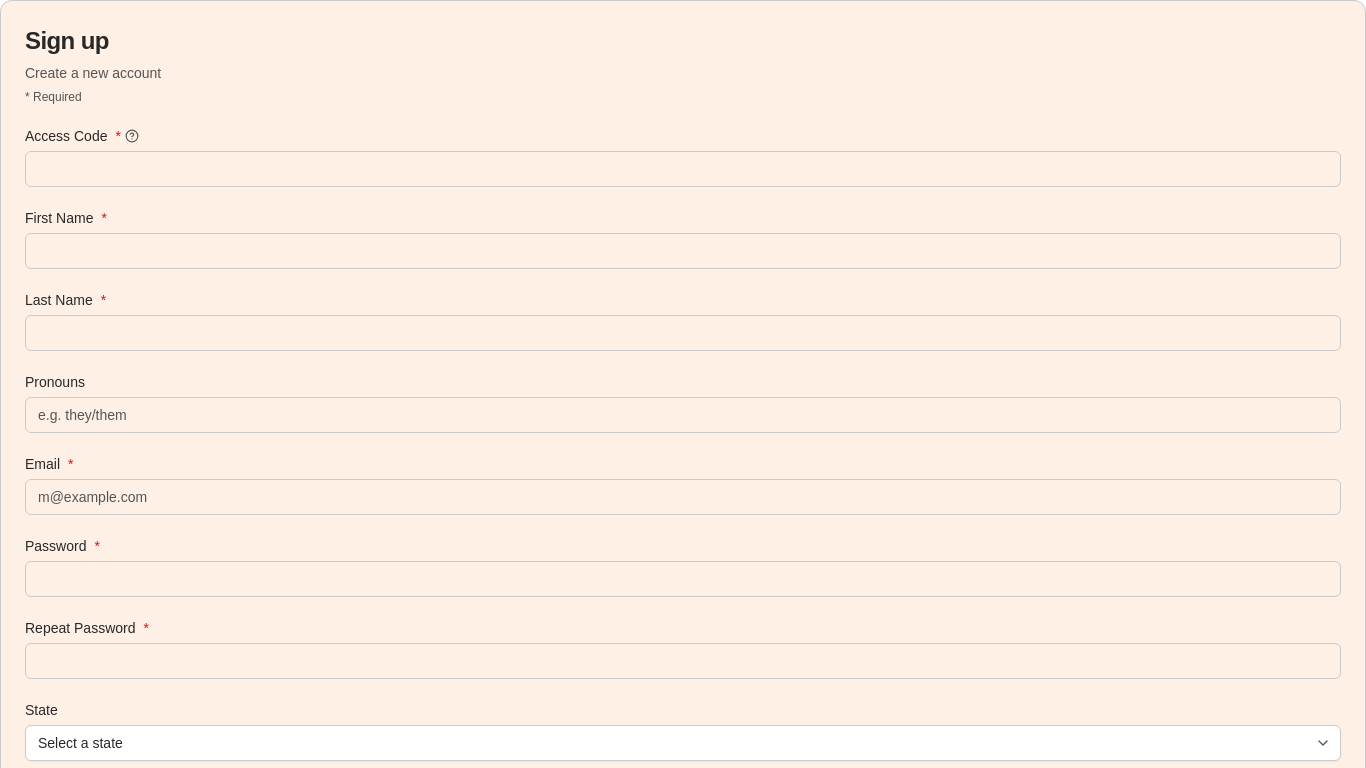
Test: SignUpForm › rejects a password that doesn't meet the policy before submitting
This screenshot has width=1366, height=768.
Type "test-code" into the field labelled "Access Code *". click: (683, 169)
box: x1=25 y1=151 x2=1341 y2=187
Type "Alice" into the field labelled "First Name *". click: (683, 251)
box: x1=25 y1=233 x2=1341 y2=269
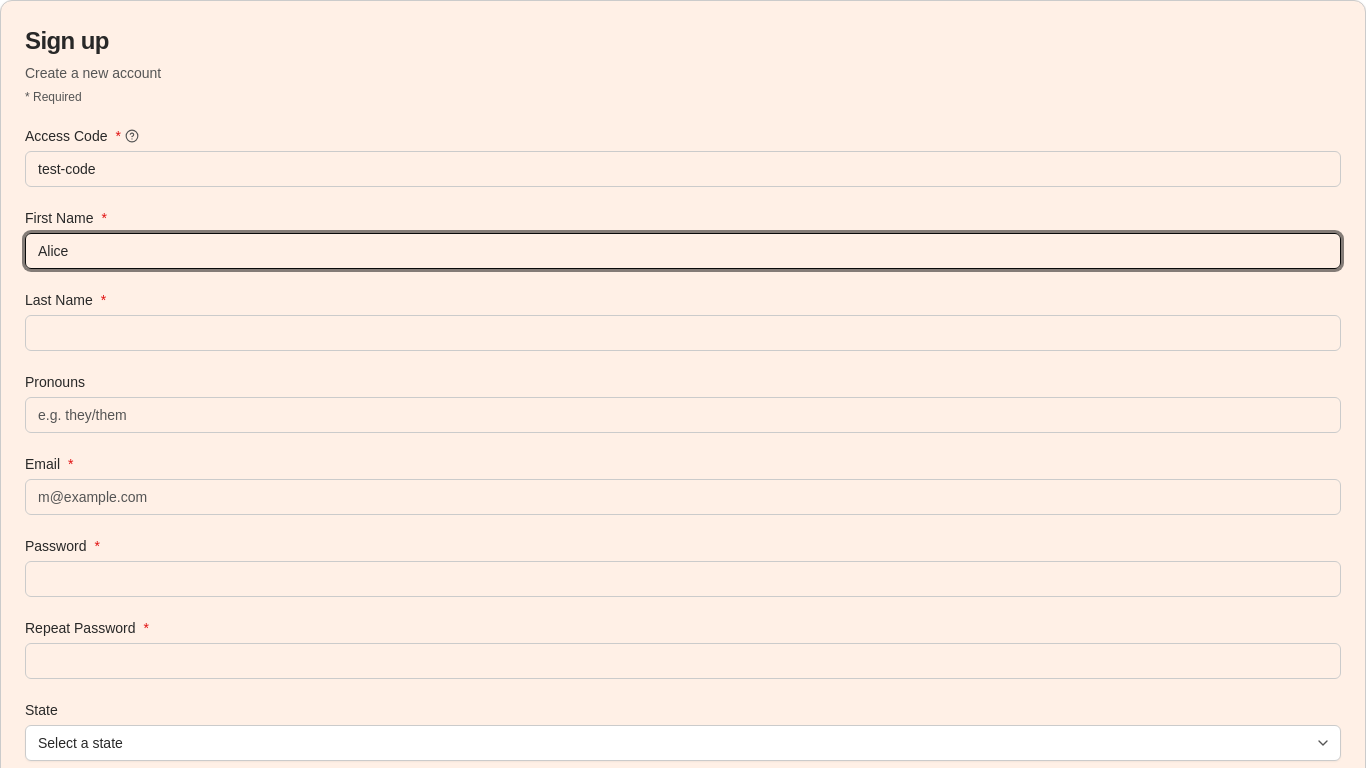
Type "Smith" into the field labelled "Last Name *". click: (683, 333)
box: x1=25 y1=315 x2=1341 y2=351
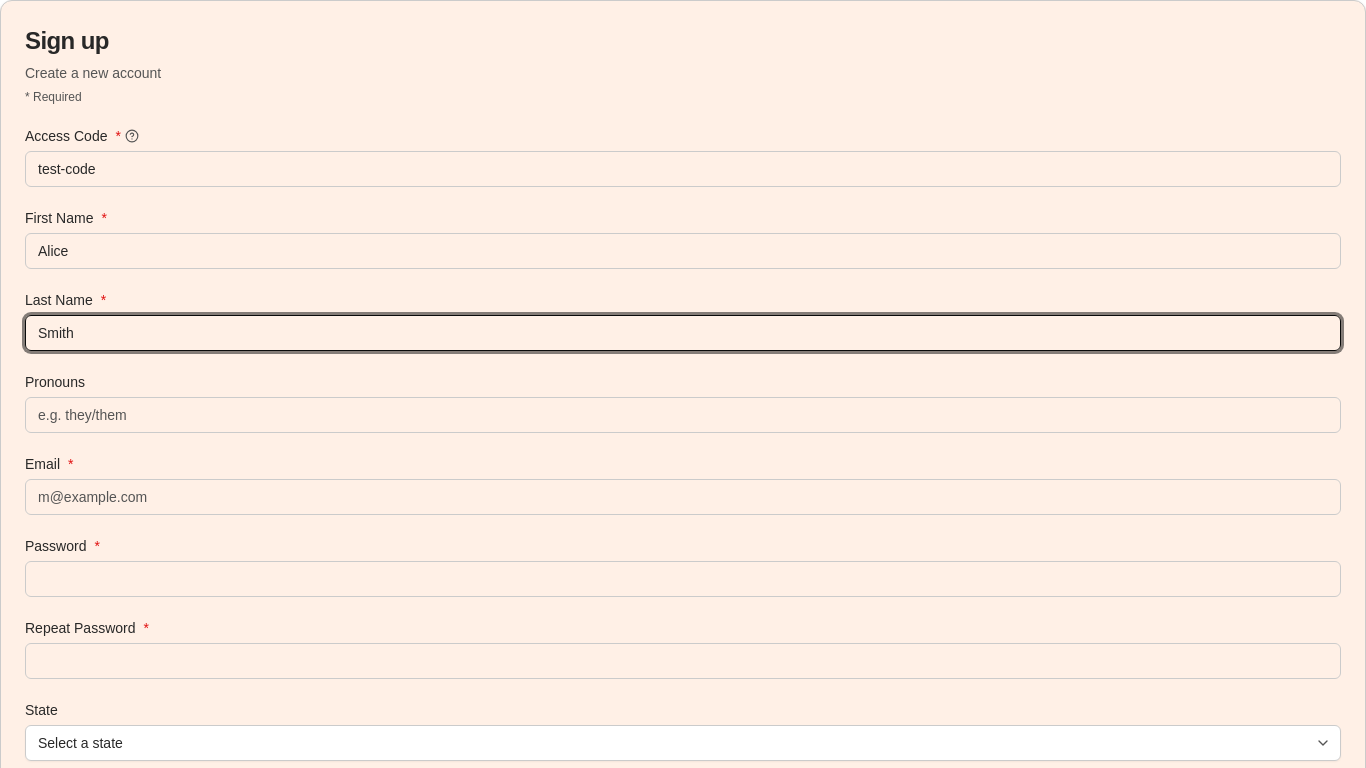
Type "alice@example.com" into the field labelled "Email *". click: (683, 497)
box: x1=25 y1=479 x2=1341 y2=515
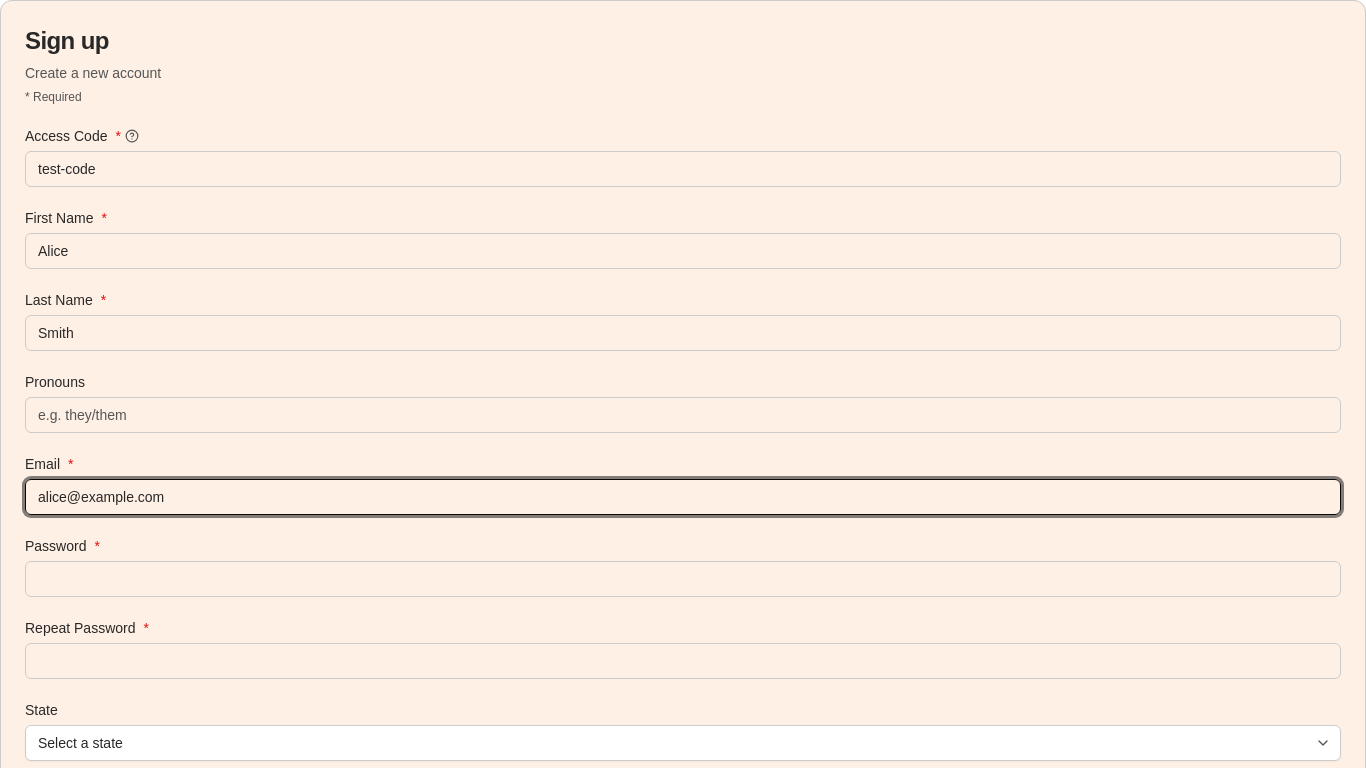
All lowercase + digits: fails the uppercase requirement.
Type "password123" into the password field labelled "Password *". click: (683, 579)
box: x1=25 y1=561 x2=1341 y2=597
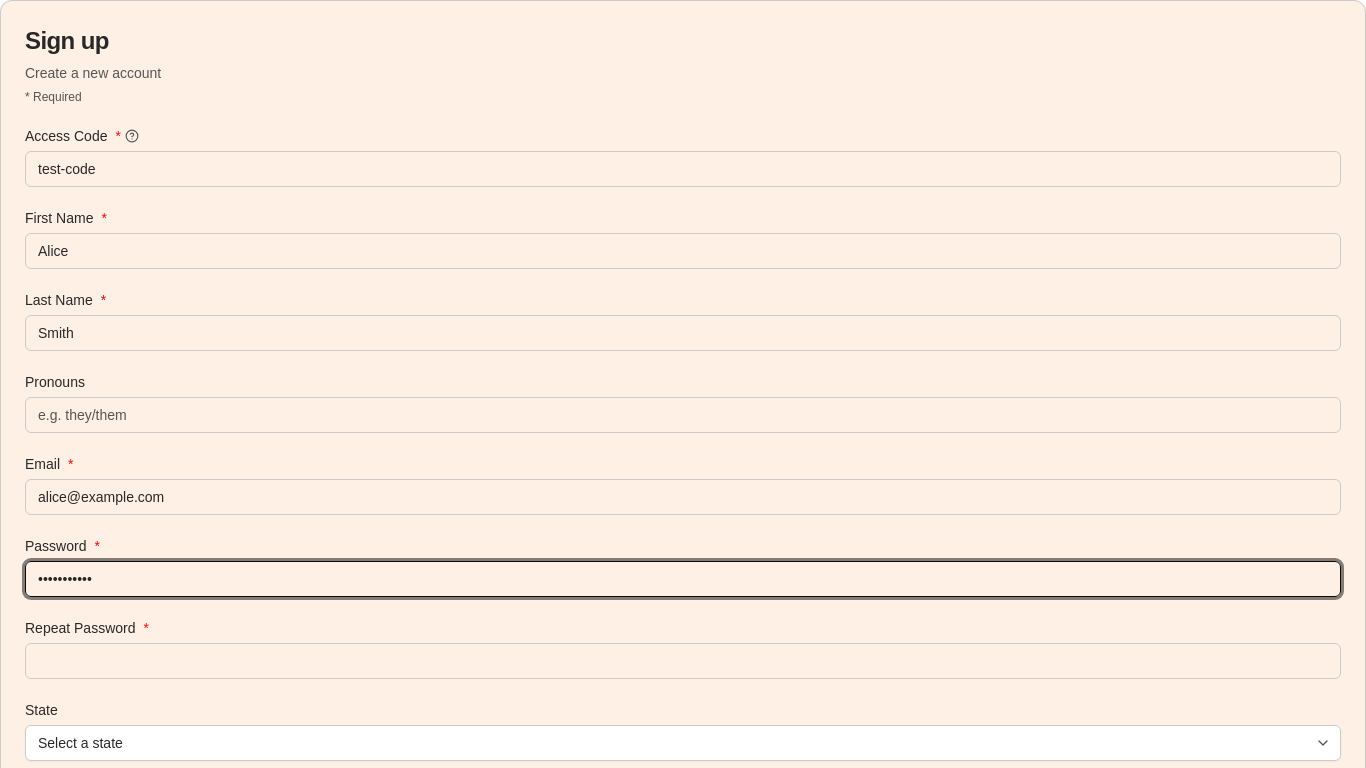
Type "password123" into the password field labelled "Repeat Password *". click: (683, 661)
box: x1=25 y1=643 x2=1341 y2=679
(page scrolled)
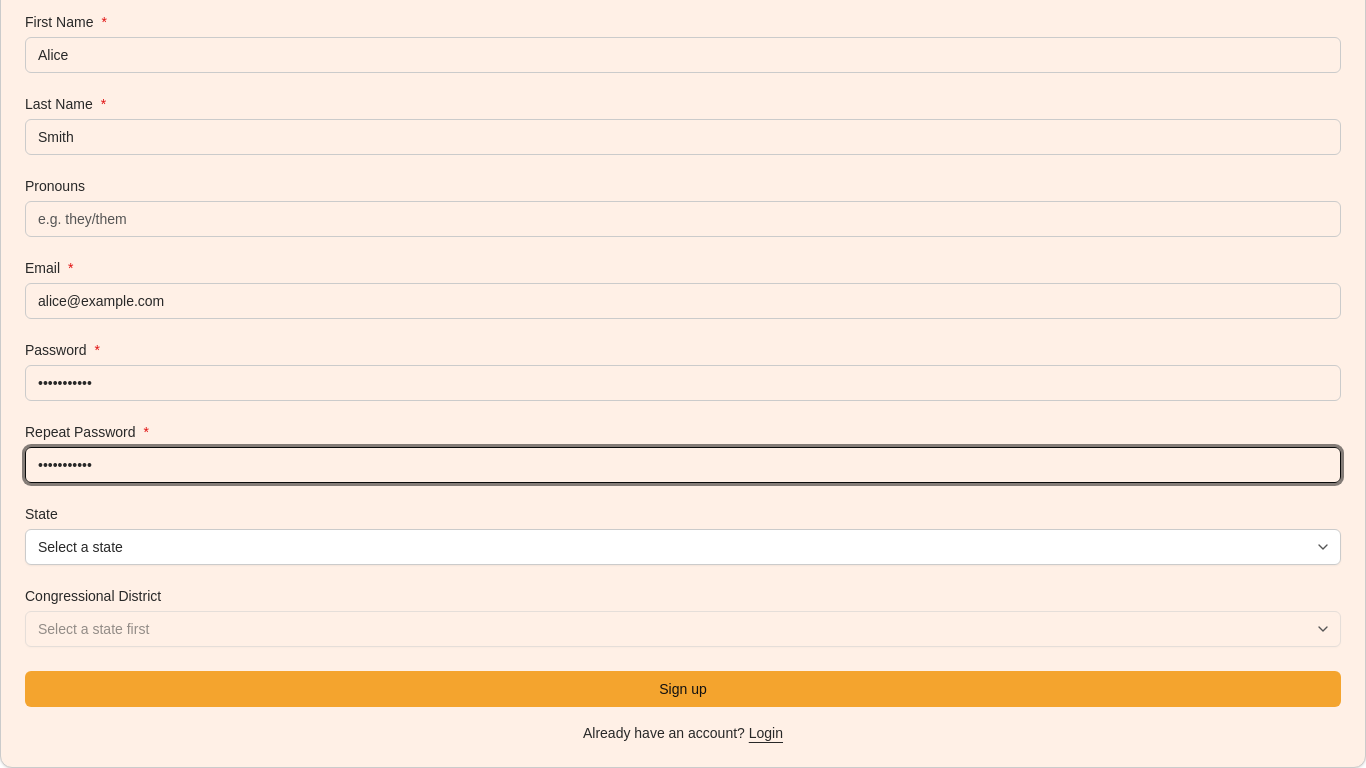
Click the button "Sign up". click: (683, 689)
box: x1=25 y1=671 x2=1341 y2=707
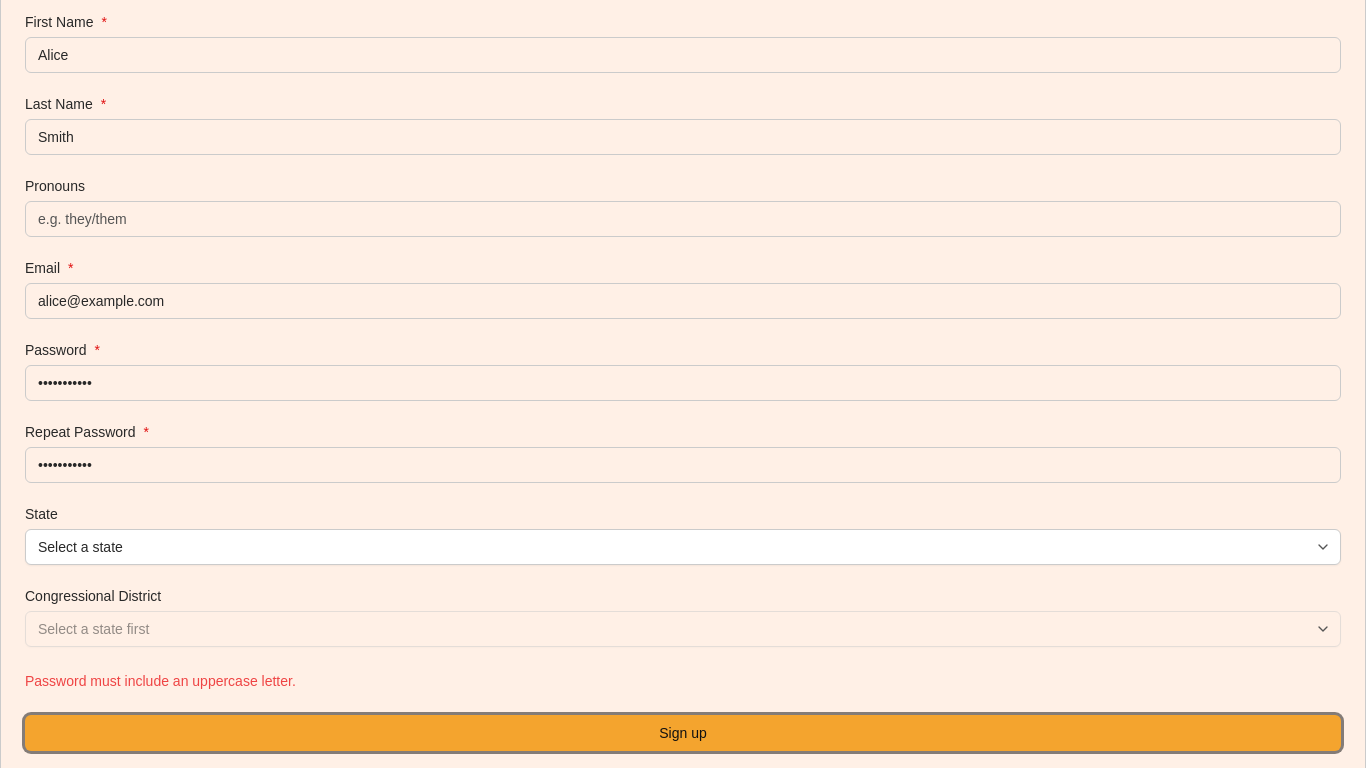
Check: the text "Password must include an uppercase letter." is shown, box x1=25 y1=673 x2=296 y2=689
